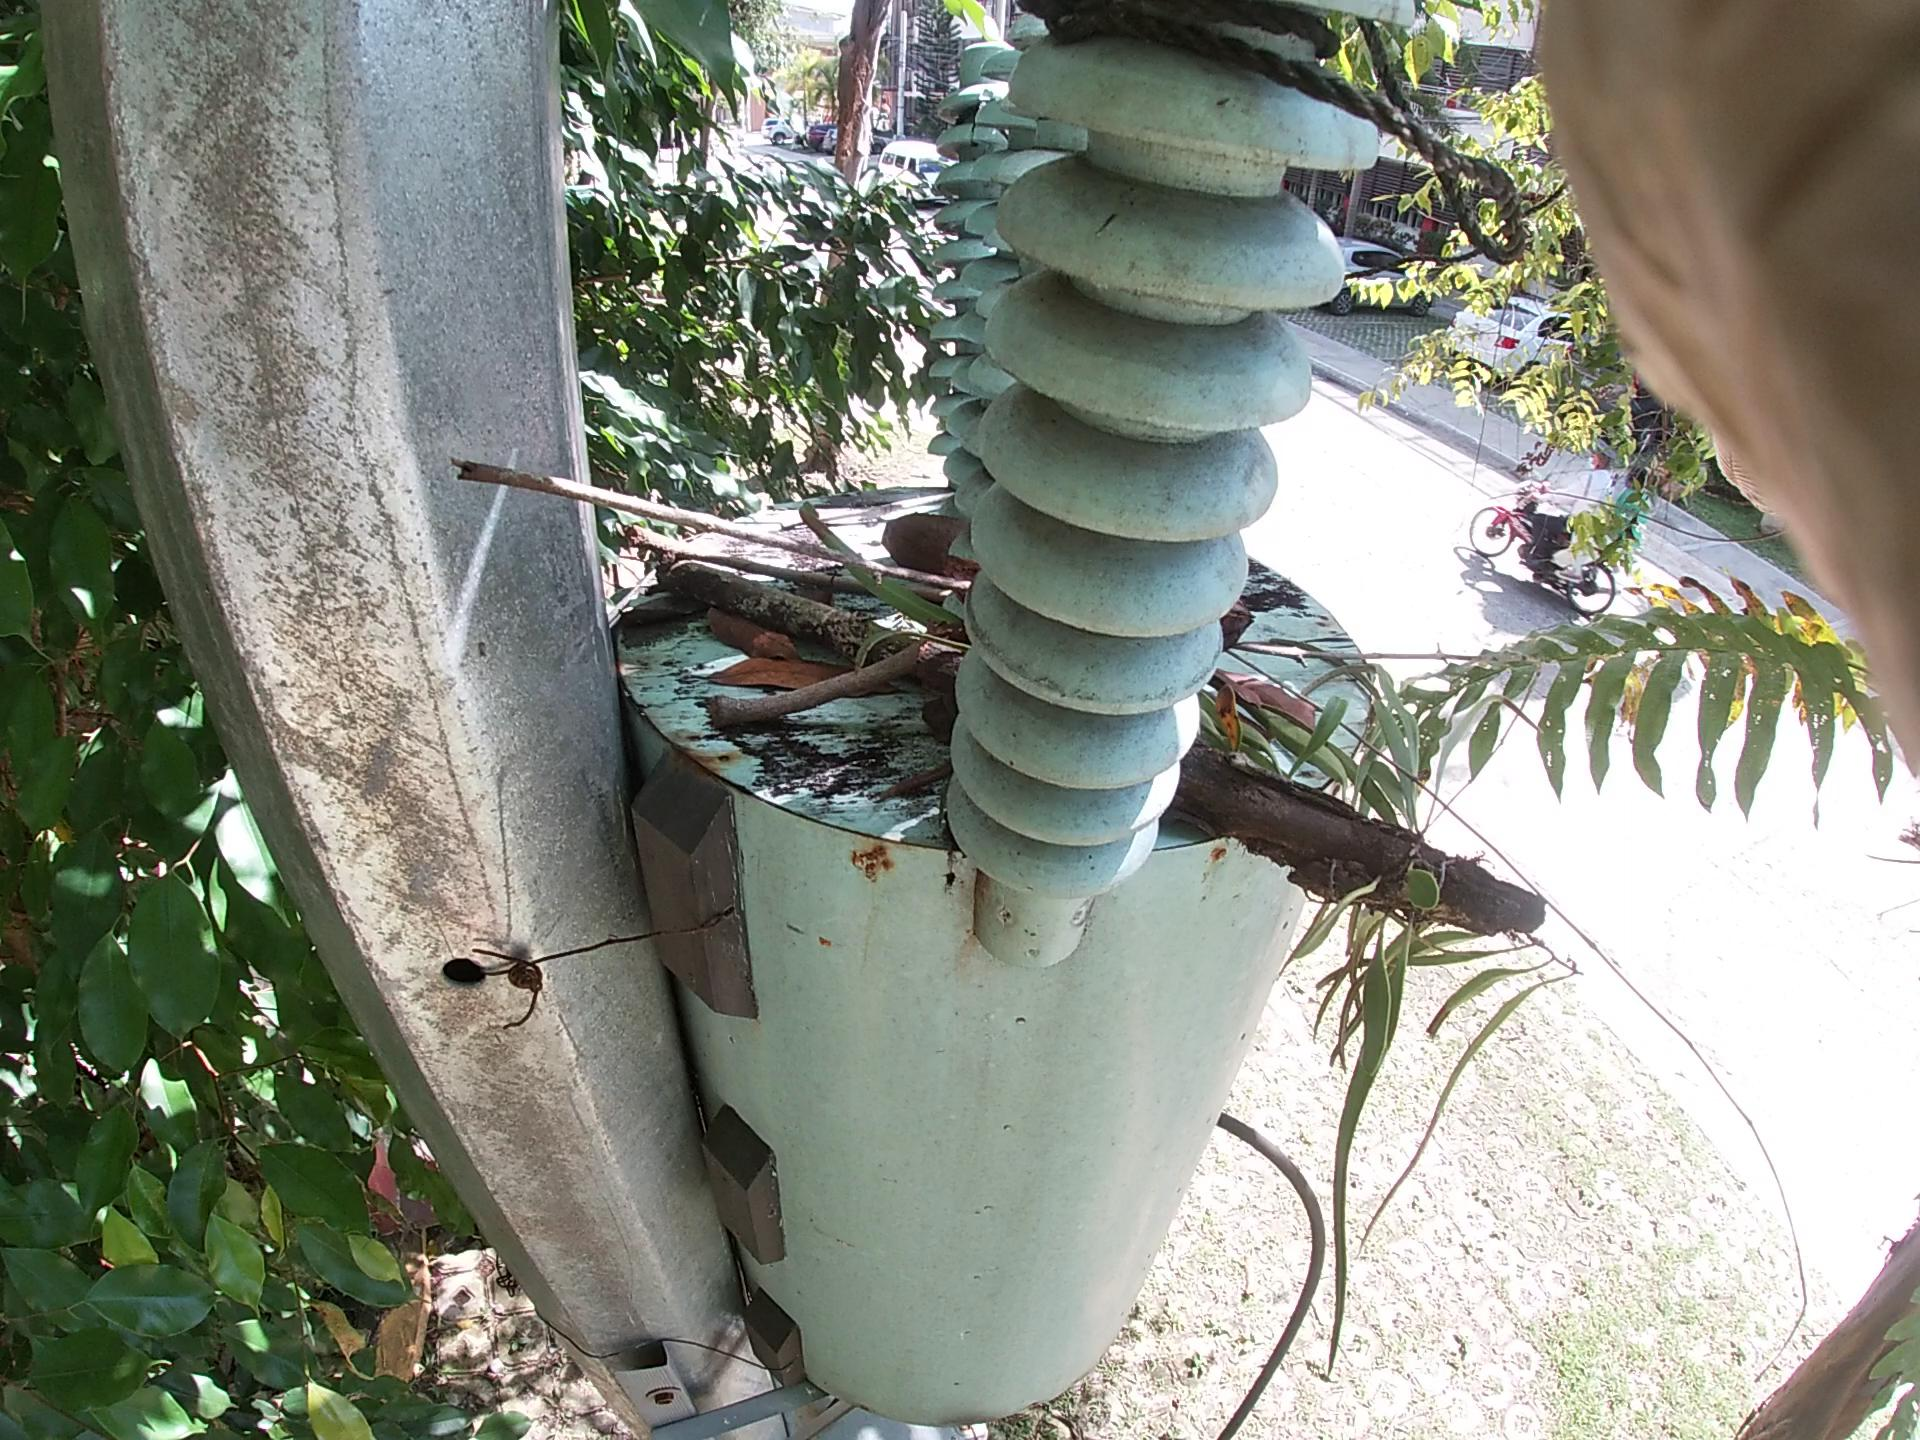branch with leaves: (630, 537, 1548, 951)
leaf: (705, 653, 862, 694), (705, 607, 807, 664)
mahogany fruit: (892, 495, 1364, 659)
tree branch: (454, 451, 986, 597), (711, 640, 962, 717)
